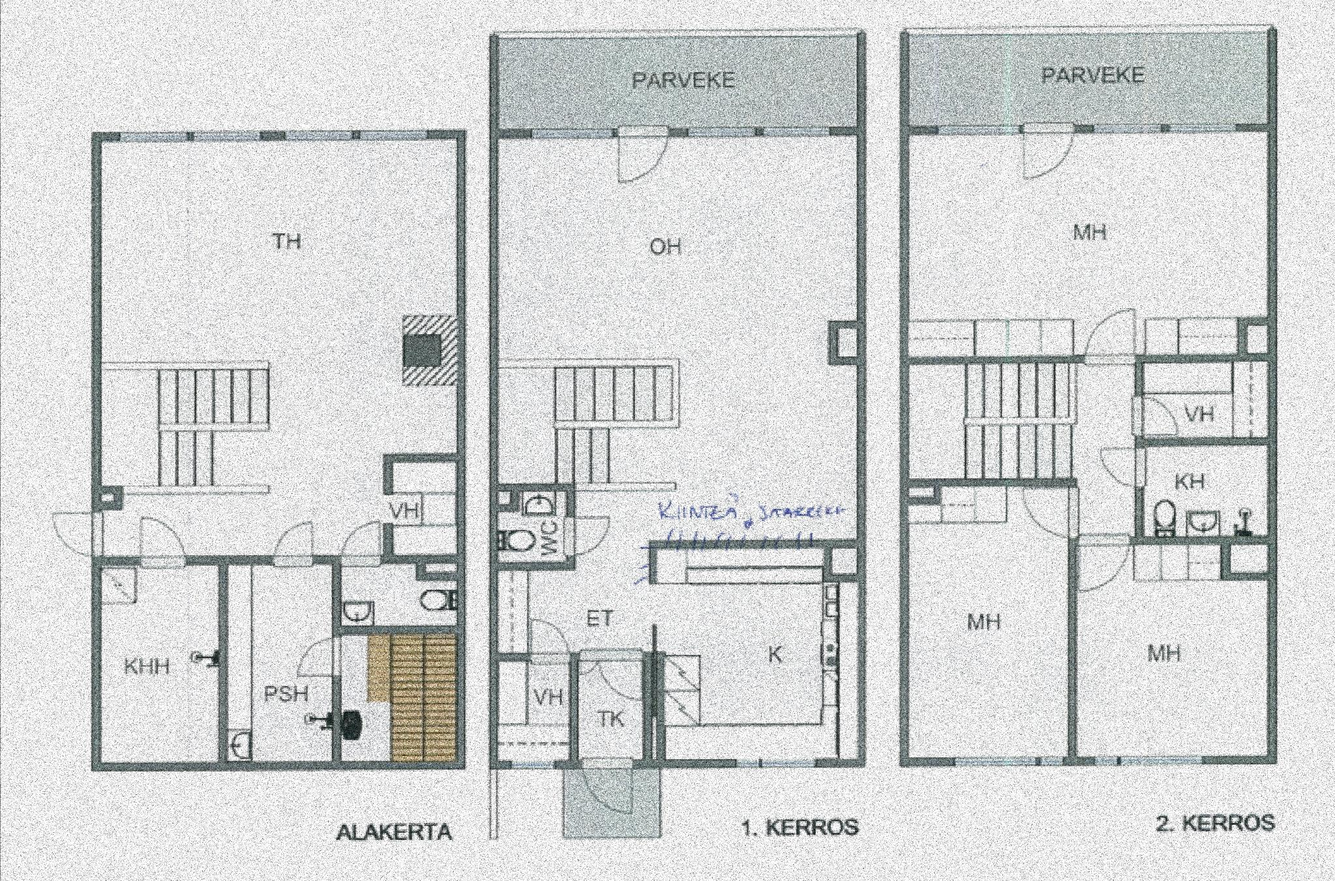door: (1021, 123, 1079, 188), (1085, 302, 1137, 369), (1079, 533, 1137, 592), (1020, 484, 1086, 535), (583, 756, 638, 816), (617, 125, 669, 186), (134, 513, 191, 566), (48, 507, 104, 559), (560, 517, 622, 555), (1101, 443, 1150, 490), (597, 657, 646, 703), (1131, 398, 1182, 442), (292, 636, 343, 679), (275, 513, 313, 568), (531, 615, 571, 664), (344, 518, 382, 565), (577, 654, 597, 675)
window: (355, 128, 425, 144), (687, 123, 757, 139), (759, 123, 829, 139), (934, 125, 1019, 137), (193, 127, 259, 142), (533, 127, 612, 139), (283, 127, 350, 141), (1122, 755, 1202, 766), (118, 131, 185, 142), (954, 758, 1036, 766), (1093, 123, 1160, 131), (1168, 125, 1234, 133), (510, 758, 554, 770), (759, 761, 811, 771), (1034, 755, 1067, 768), (739, 758, 759, 770), (1097, 758, 1120, 767)
zone: (504, 139, 858, 760), (98, 137, 456, 550), (908, 131, 1273, 352), (906, 487, 1071, 755), (660, 548, 854, 756), (1079, 546, 1270, 754), (909, 364, 1135, 533), (498, 36, 856, 126), (908, 37, 1270, 123), (99, 566, 219, 761), (343, 565, 456, 761), (228, 562, 332, 762), (1147, 444, 1264, 535), (1146, 364, 1268, 439), (563, 768, 661, 840), (500, 659, 569, 756), (579, 660, 645, 753), (495, 494, 571, 561)
